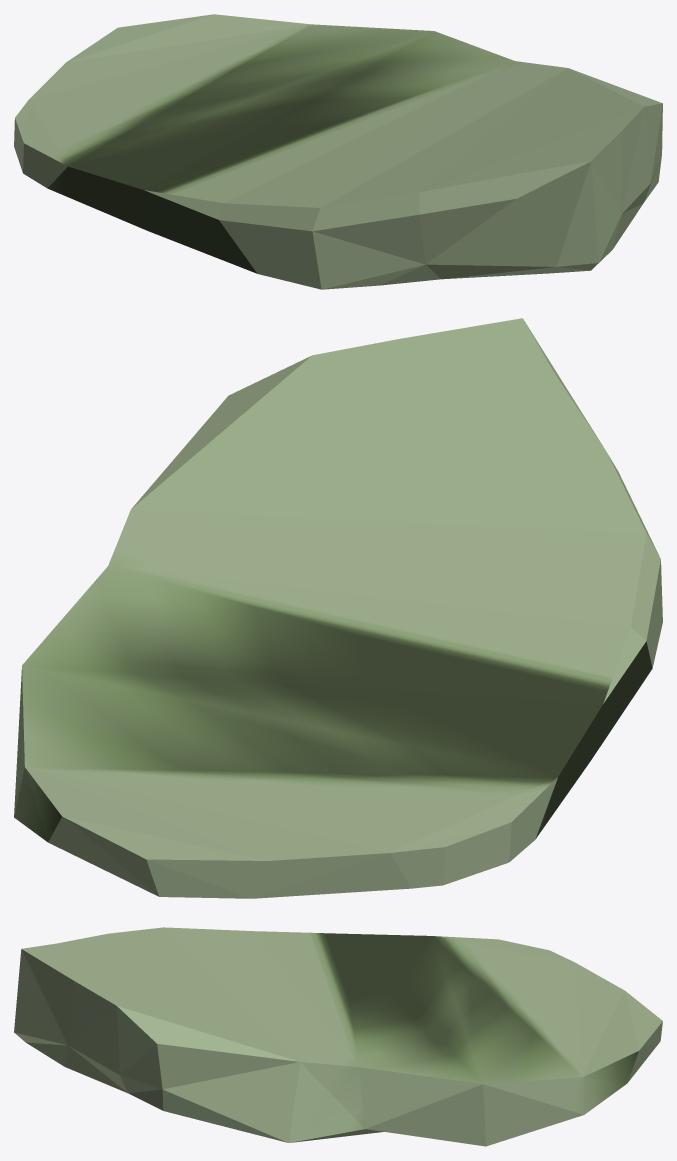
Rendered from EA_Swamp_tree6.005.glb.
3 views of the same model, one above another, from view 1: azimuth 30°, elevation 25°; view 2: azimuth 150°, elevation 25°; view 3: azimuth 270°, elevation 25° (orthographic). The views are drawn at different scales.
Parts seen in each view (by area): view 1: EA_Swamp_tree6.005; view 2: EA_Swamp_tree6.005; view 3: EA_Swamp_tree6.005.
Boxes of the visible parts, x1=… form: EA_Swamp_tree6.005: x1=14, y1=14, x2=662, y2=289; EA_Swamp_tree6.005: x1=14, y1=318, x2=662, y2=898; EA_Swamp_tree6.005: x1=14, y1=927, x2=662, y2=1146.
Size of the model in its own units: 3.93 by 1.47 by 5.82.
Materials: 1 (1 with a texture image).
